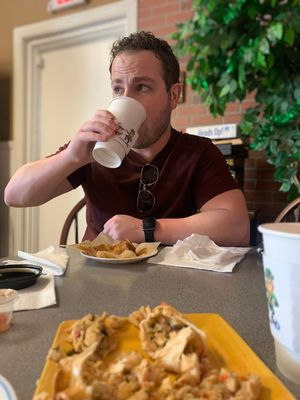pizza: (258, 222, 300, 396), (0, 287, 18, 334)
